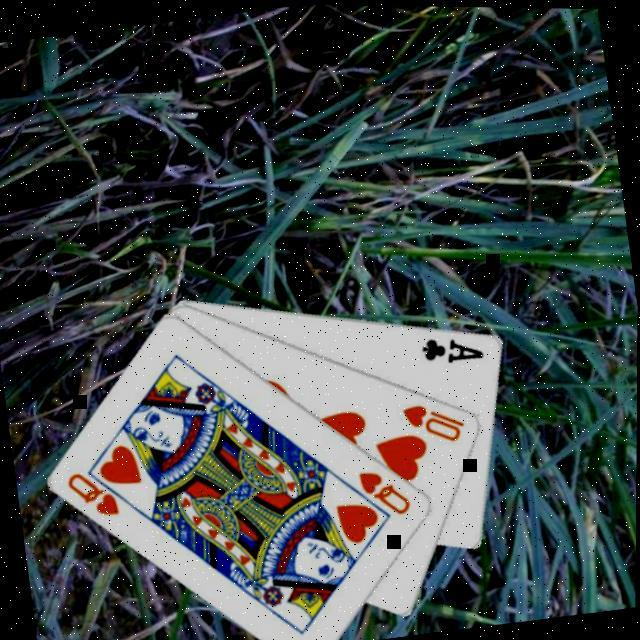10H: (400, 391, 472, 448)
AC: (420, 324, 490, 366)
QH: (65, 458, 142, 522), (357, 459, 418, 520)
